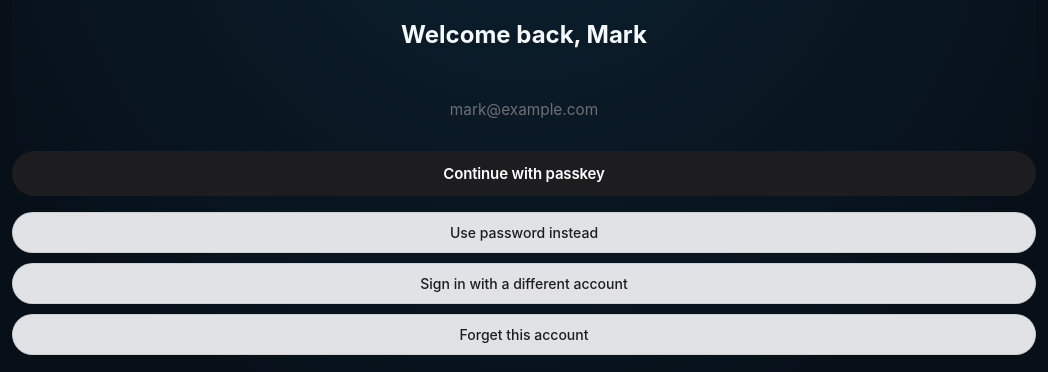
it: LoginView remembered account › forgets only the local account hint
Step 1. Click the button "Forget this account" → (524, 334), box [12,314,1036,354]
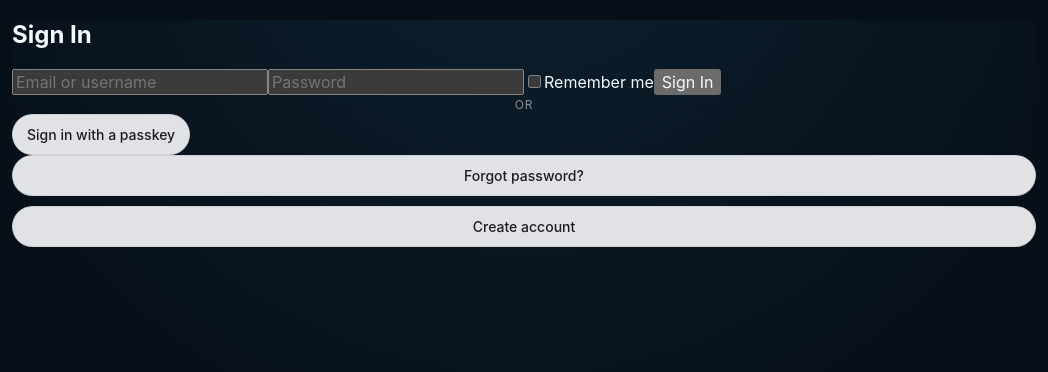
Check: the heading "Sign In" is shown, box [12,20,92,49]
